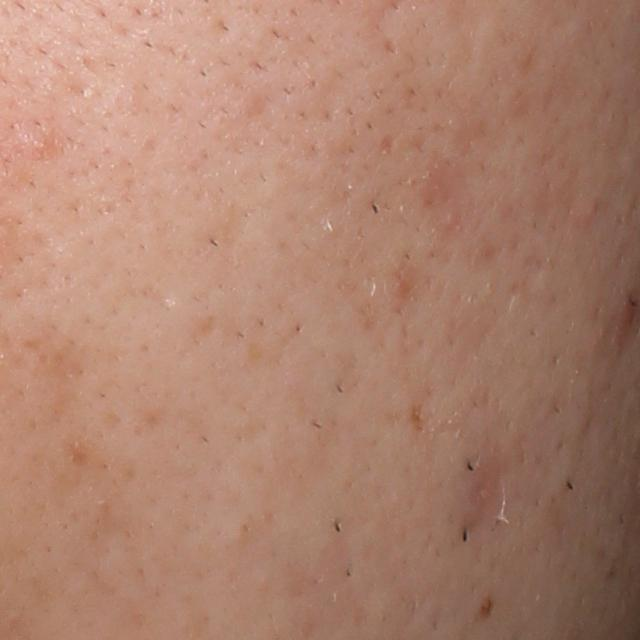nevus: (478, 591, 499, 619)
